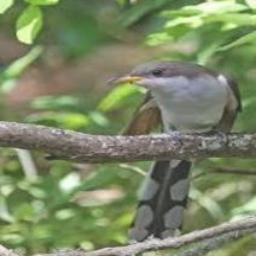Cuckoo: (107, 58, 240, 241)
